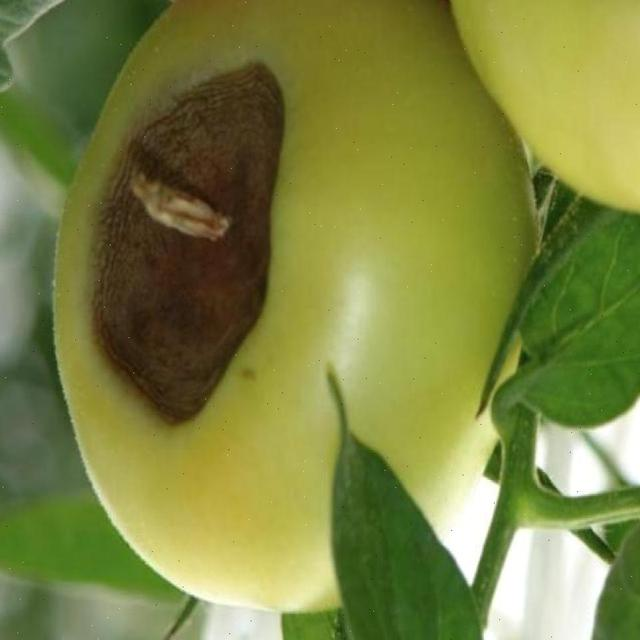Blossom End Rot Fruit: (60, 34, 192, 288)
